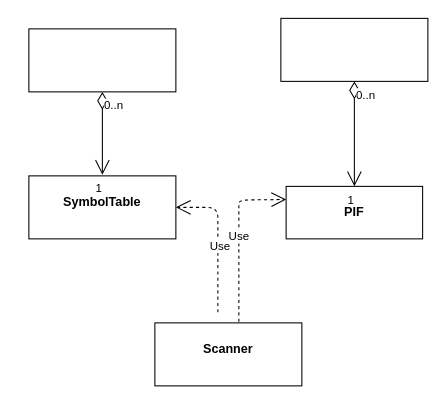
Some shapes in this 446 by 404 pixel diagram are drawn without their labels. The centre of each missing label's shape, as x and y in pixels:
"Pair" goes at point 102,60.
"PIFElement" goes at point 354,49.
